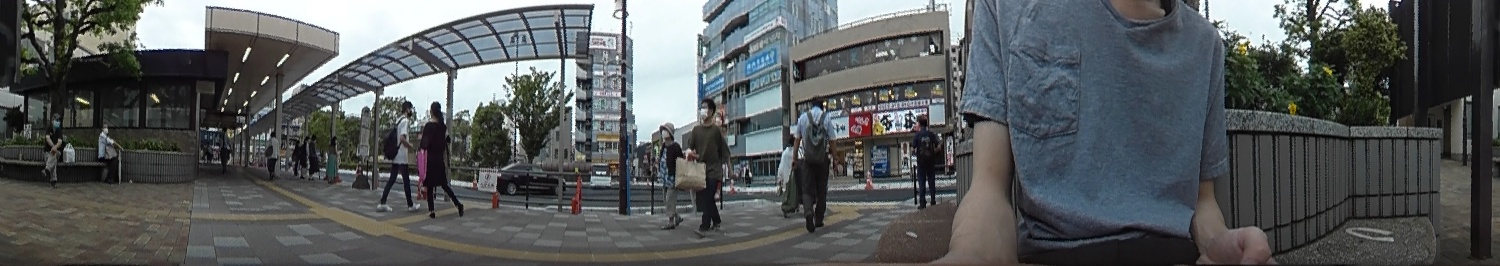difficult_person: (326, 135, 343, 186), (264, 129, 278, 179), (306, 133, 319, 178), (298, 135, 309, 173), (217, 143, 229, 171)
person: (687, 94, 735, 234), (790, 91, 836, 231), (418, 99, 465, 215), (378, 94, 418, 213), (654, 121, 688, 232), (907, 111, 946, 206), (35, 108, 73, 181), (777, 136, 804, 201), (93, 121, 122, 179)
